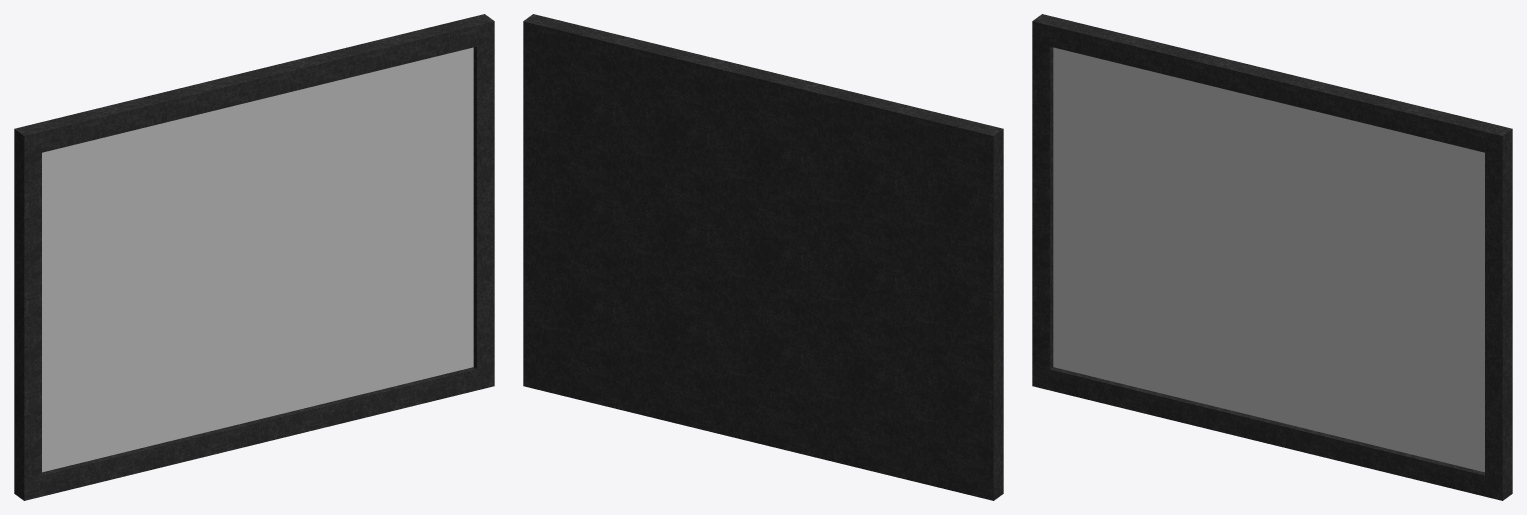
The model's file is MapWM.fbx.
3 views of the same model, side by side, from view 1: azimuth 30°, elevation 25°; view 2: azimuth 150°, elevation 25°; view 3: azimuth 330°, elevation 25° (orthographic).
Parts seen in each view (by area): view 1: MapWarmiaIMazury; view 2: MapWarmiaIMazury; view 3: MapWarmiaIMazury.
Part boxes in pixels (x1,y1,x2,y2): MapWarmiaIMazury: [14, 14, 494, 500]; MapWarmiaIMazury: [523, 14, 1003, 500]; MapWarmiaIMazury: [1032, 14, 1512, 500].
Bounding box in the file's own units: 3.78 × 2.8 × 0.1396.
